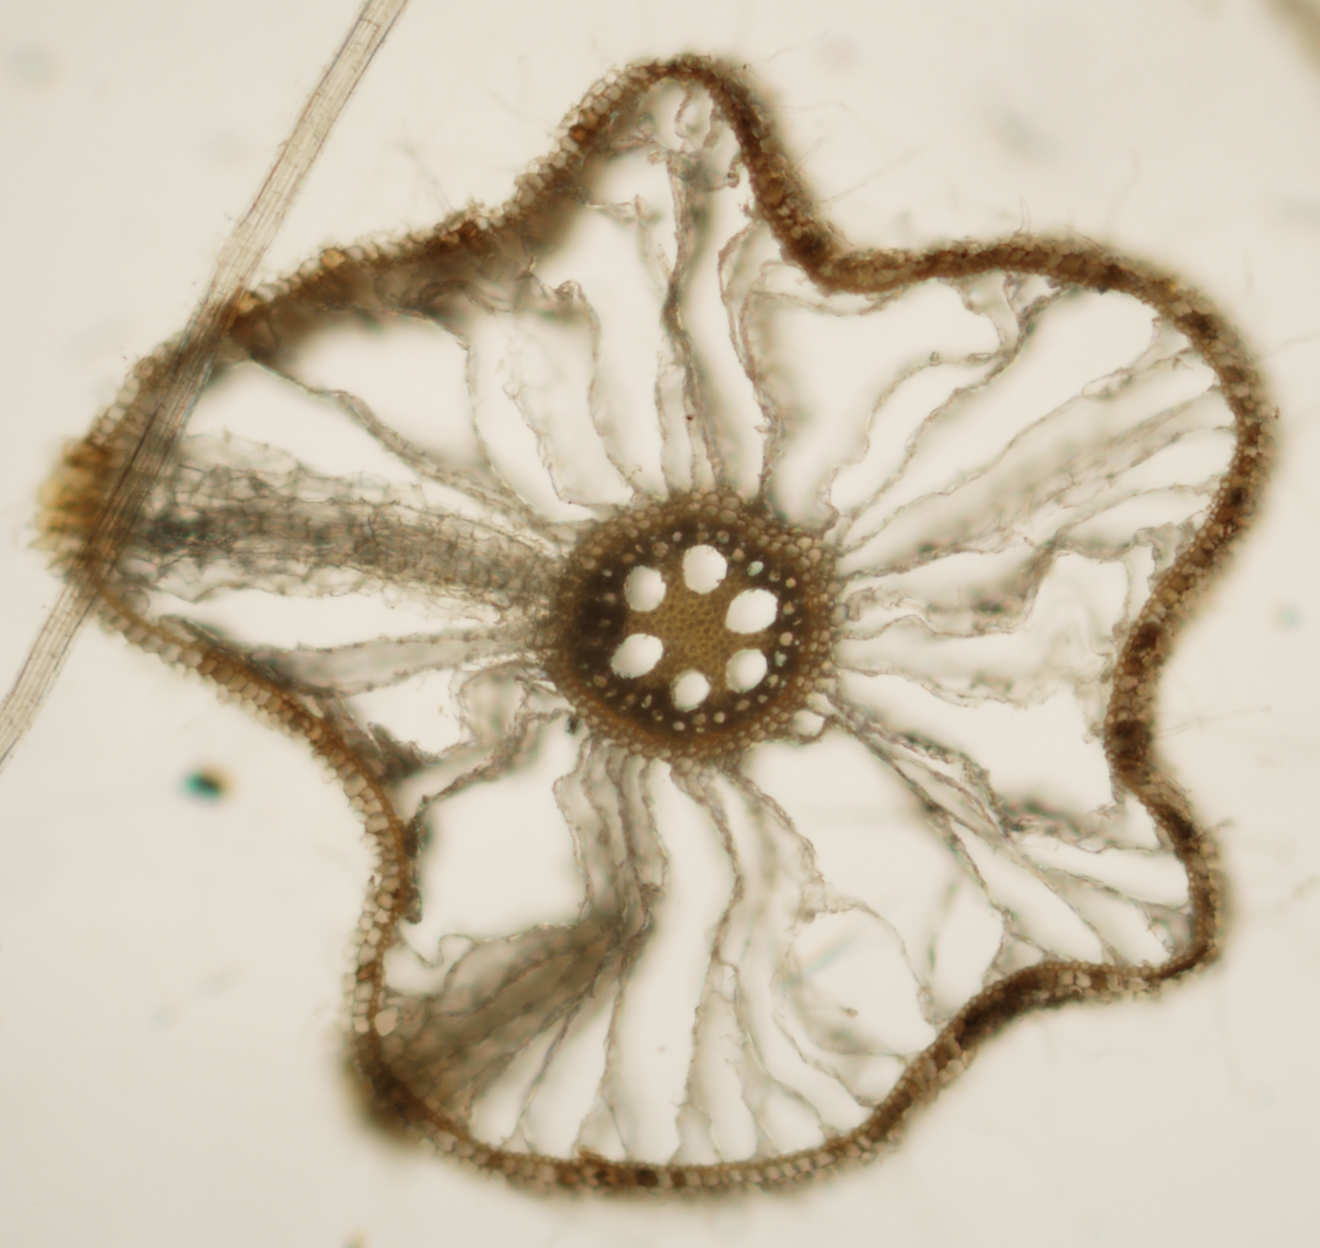lm: (725, 588, 778, 635), (609, 632, 662, 678), (682, 545, 727, 595), (622, 565, 665, 611), (724, 647, 767, 692), (670, 669, 709, 711)
